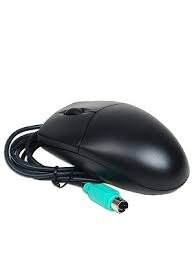mouse: (33, 99, 191, 201)
